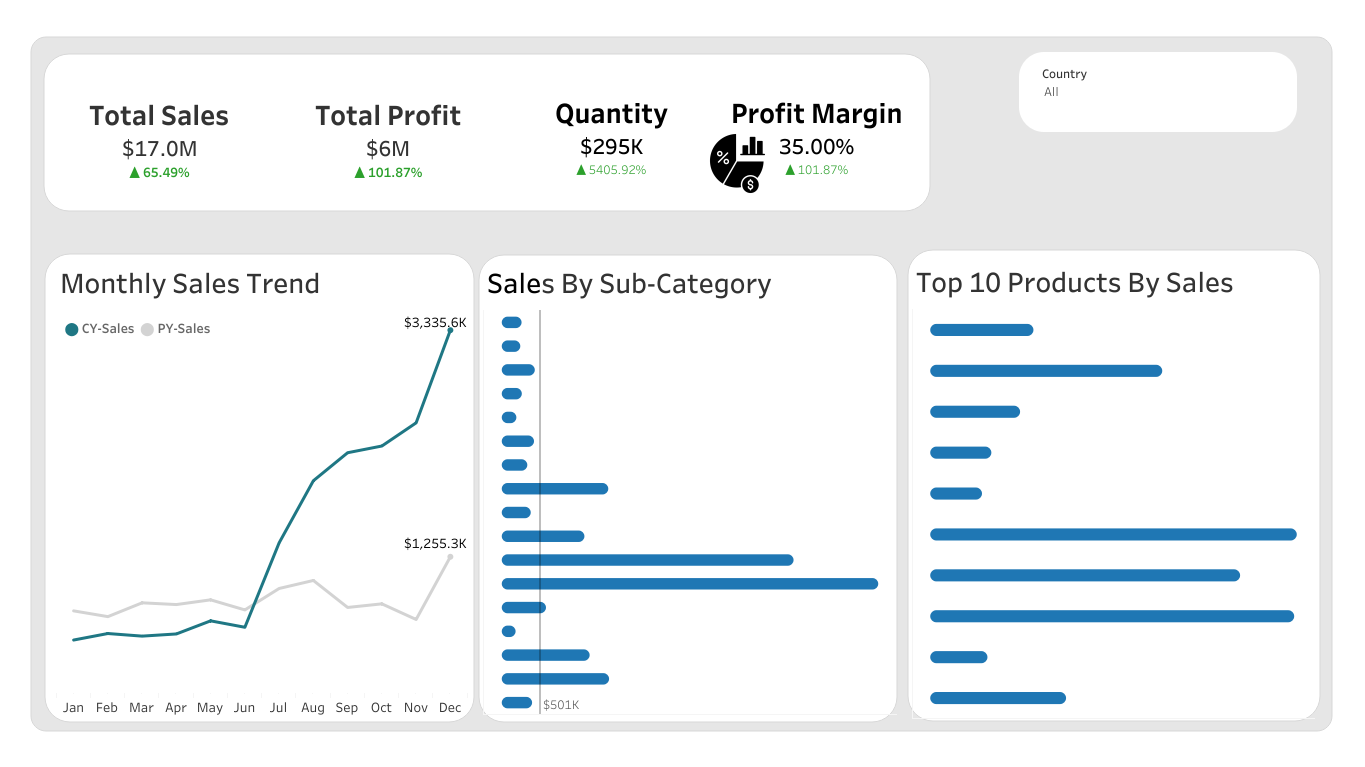

The dashboard page shown, as its layout file describes it:
{"tool":"tableau","page":{"name":"Sales Overview","canvas":[1366,768],"ordinal":0},"visuals":[{"type":"worksheet","title":"Rounded Box","mark":"Automatic","box":[8,8,1350,752]},{"type":"blank","box":[47,54,884,155]},{"type":"worksheet","title":"Quantity KPI","mark":"Automatic","box":[504.8,56.9,213.8,157.6]},{"type":"worksheet","title":"Profit Margin KPI","mark":"Automatic","box":[710.3,56.9,213.8,157.6]},{"type":"worksheet","title":"Sales KPI","mark":"Automatic","box":[47.5,59.6,224.5,156.2]},{"type":"worksheet","title":"Profit KPI","mark":"Automatic","box":[276.8,59.6,224.5,157.6]},{"type":"filter","title":"Monthly Sales ","param":"[federated.05dwh8f065blxy13u4qdn16uz7kw].[none:Country:nk]","box":[1042,63,229,64]},{"type":"image","param":"Image/profit-margin.png","box":[705.6,132.4,70.1,62.2]},{"type":"image","box":[287.4,133.7,111.7,56.9]},{"type":"image","box":[503.6,133.7,76,60.9]},{"type":"image","box":[58.2,136.4,49.9,55.6]},{"type":"worksheet","title":"Sales By Top 10 Products","mark":"Line","rows":["Product"],"box":[912.3,255.6,401.5,462.1]},{"type":"worksheet","title":"Monthly Sales ","mark":"Automatic","rows":["Calculation_204913823342694401","Sales-2016 (copy)_204913823343353858"],"cols":["Date"],"box":[55.8,256.9,411,459.5]},{"type":"worksheet","title":"Sales By Category","mark":"Line","rows":["Sub_Category"],"box":[483.4,256.9,412.2,458.2]},{"type":"text","box":[61.8,307.2,193.6,39.7]}]}

Visuals, with their boxes in screenshot pixels (x1, y1, x2, y2), scaled from the page's 1366x768 canvas onto the 1365x767 screenshot:
"Rounded Box" worksheet: {"x1": 8, "y1": 8, "x2": 1357, "y2": 759}
blank: {"x1": 47, "y1": 54, "x2": 930, "y2": 209}
"Quantity KPI" worksheet: {"x1": 504, "y1": 57, "x2": 718, "y2": 214}
"Profit Margin KPI" worksheet: {"x1": 710, "y1": 57, "x2": 923, "y2": 214}
"Sales KPI" worksheet: {"x1": 47, "y1": 60, "x2": 272, "y2": 216}
"Profit KPI" worksheet: {"x1": 277, "y1": 60, "x2": 501, "y2": 217}
"Monthly Sales " filter: {"x1": 1041, "y1": 63, "x2": 1270, "y2": 127}
image: {"x1": 705, "y1": 132, "x2": 775, "y2": 194}
image: {"x1": 287, "y1": 134, "x2": 399, "y2": 190}
image: {"x1": 503, "y1": 134, "x2": 579, "y2": 194}
image: {"x1": 58, "y1": 136, "x2": 108, "y2": 192}
"Sales By Top 10 Products" worksheet (Line marks): {"x1": 912, "y1": 255, "x2": 1313, "y2": 717}
"Monthly Sales " worksheet: {"x1": 56, "y1": 257, "x2": 466, "y2": 715}
"Sales By Category" worksheet (Line marks): {"x1": 483, "y1": 257, "x2": 895, "y2": 714}
text: {"x1": 62, "y1": 307, "x2": 255, "y2": 346}
